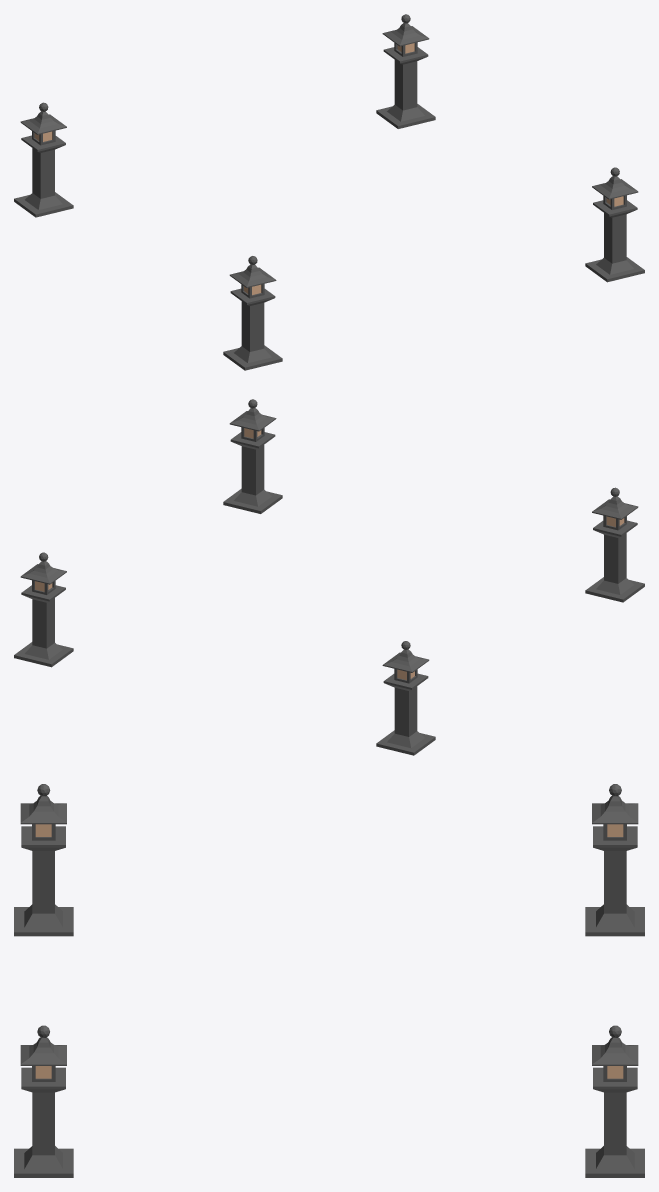
Rendered from 4-in-1-lamp.glb.
3 views of the same model, one above another, from view 1: azimuth 30°, elevation 25°; view 2: azimuth 150°, elevation 25°; view 3: azimuth 270°, elevation 25° (orthographic). The views are drawn at different scales.
Parts seen in each view (by area): view 1: Cube.002; view 2: Cube.002; view 3: Cube.002, Cube.001.
Boxes of the visible parts, x1=… form: Cube.002: x1=14, y1=23, x2=644, y2=370; Cube.002: x1=14, y1=408, x2=644, y2=755; Cube.002: x1=14, y1=795, x2=644, y2=1177; Cube.001: x1=35, y1=824, x2=623, y2=1078.
Size of the model in its own units: 24.56 by 5.98 by 24.56.
